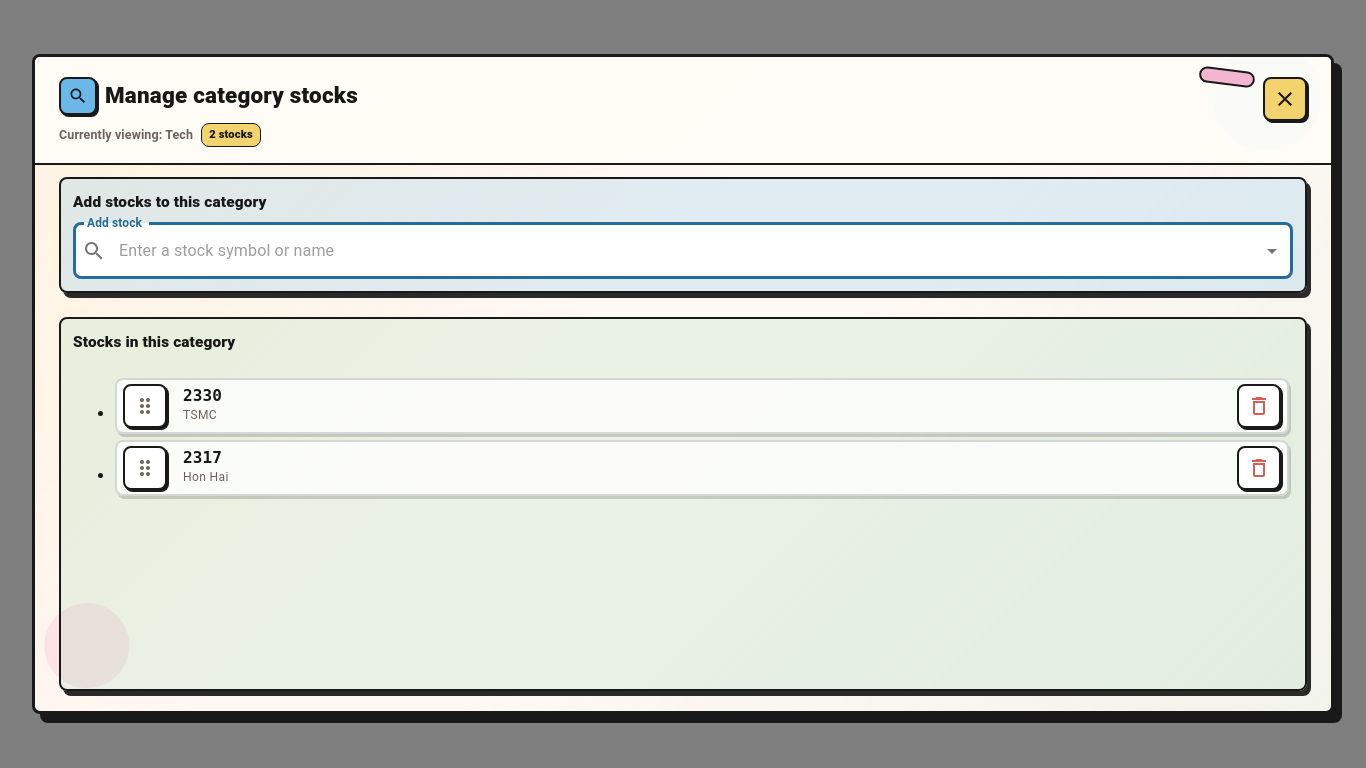
Test: AddStockDialog category stock management › persists removals immediately and keeps the dialog open
Step 1. Click the button named "Remove Hon Hai from this category" → (1259, 468), box x1=1237 y1=446 x2=1281 y2=490
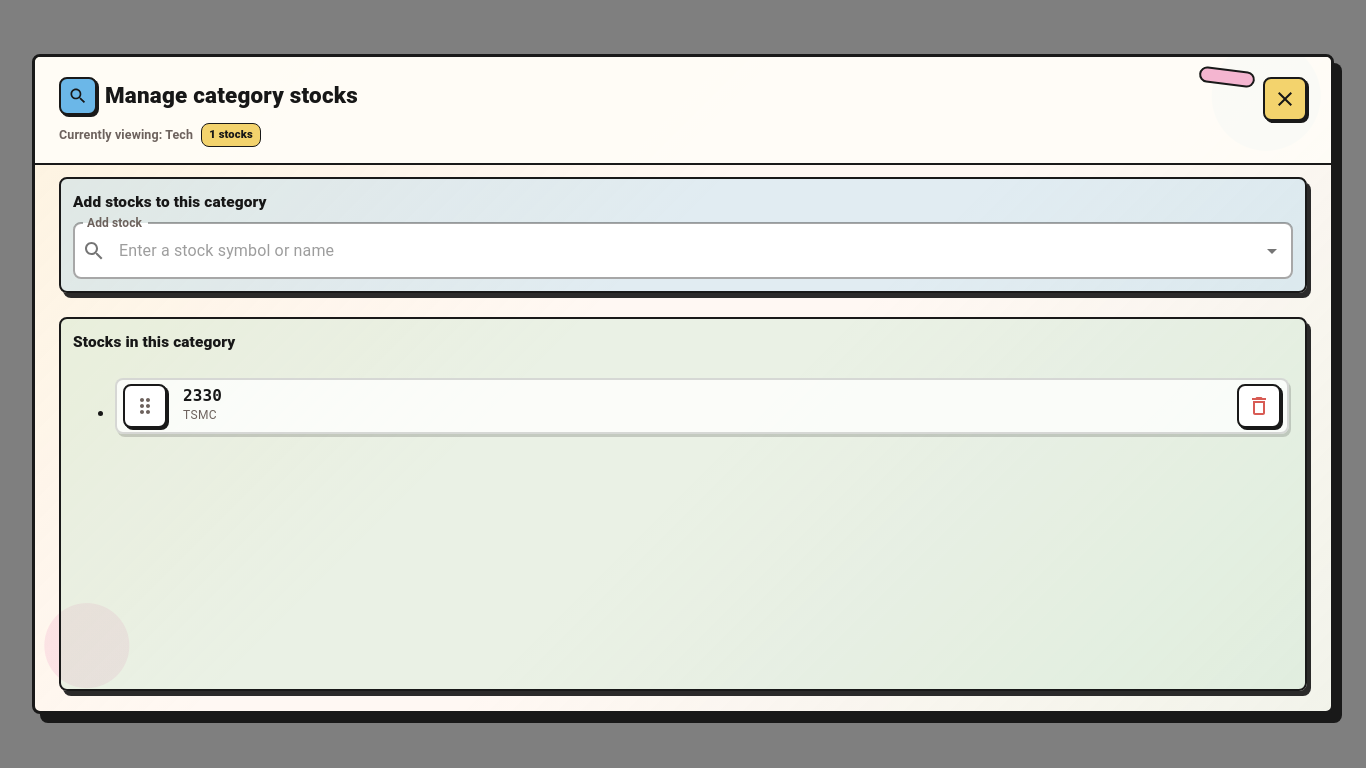
Expected: the heading "Manage category stocks" is shown, x1=105 y1=83 x2=358 y2=109
Expected: the text "1 stocks" is shown, x1=201 y1=123 x2=261 y2=147
